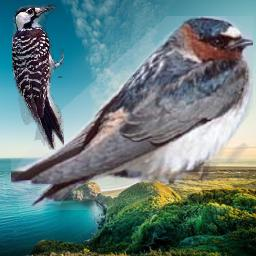Swallow: (11, 16, 253, 210)
Woodpecker: (12, 4, 64, 150)
